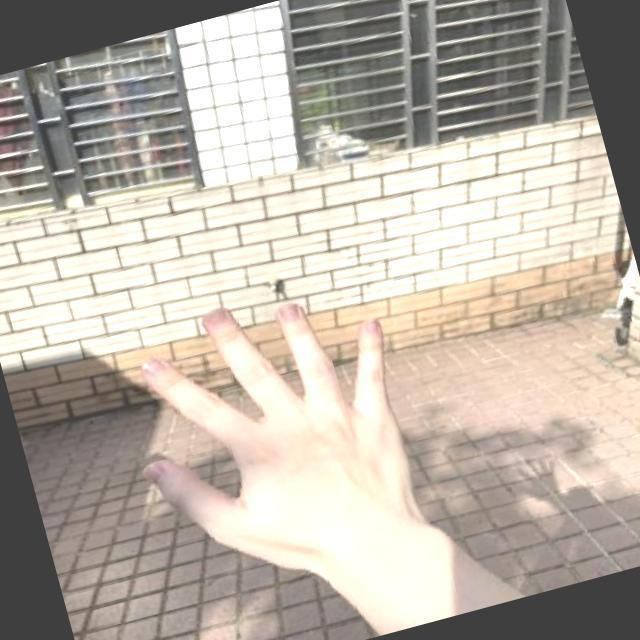hand: (122, 300, 440, 577)
